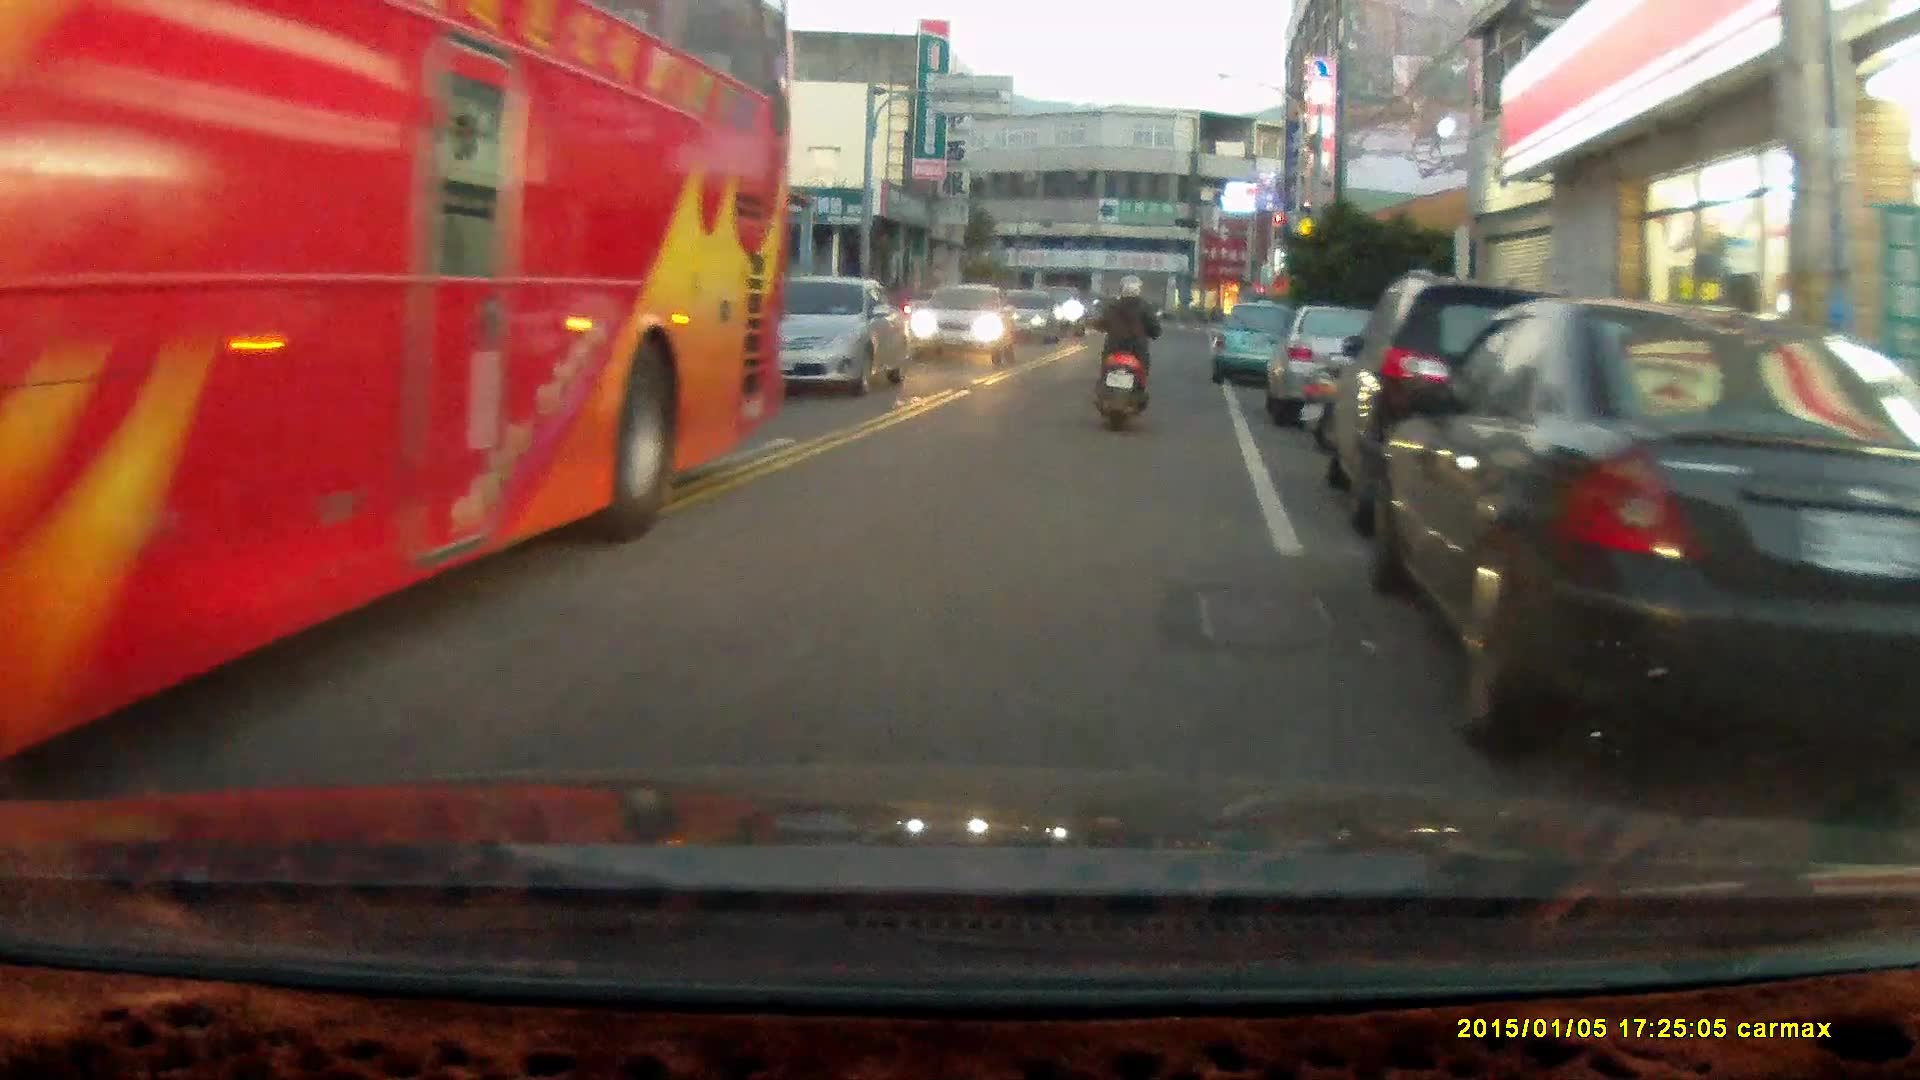rider: (1087, 273, 1161, 431)
vehicle: (1, 9, 797, 762), (1371, 296, 1920, 770), (1316, 267, 1682, 544), (1264, 304, 1450, 434), (721, 280, 904, 398), (909, 282, 1020, 366), (1210, 300, 1305, 386)
